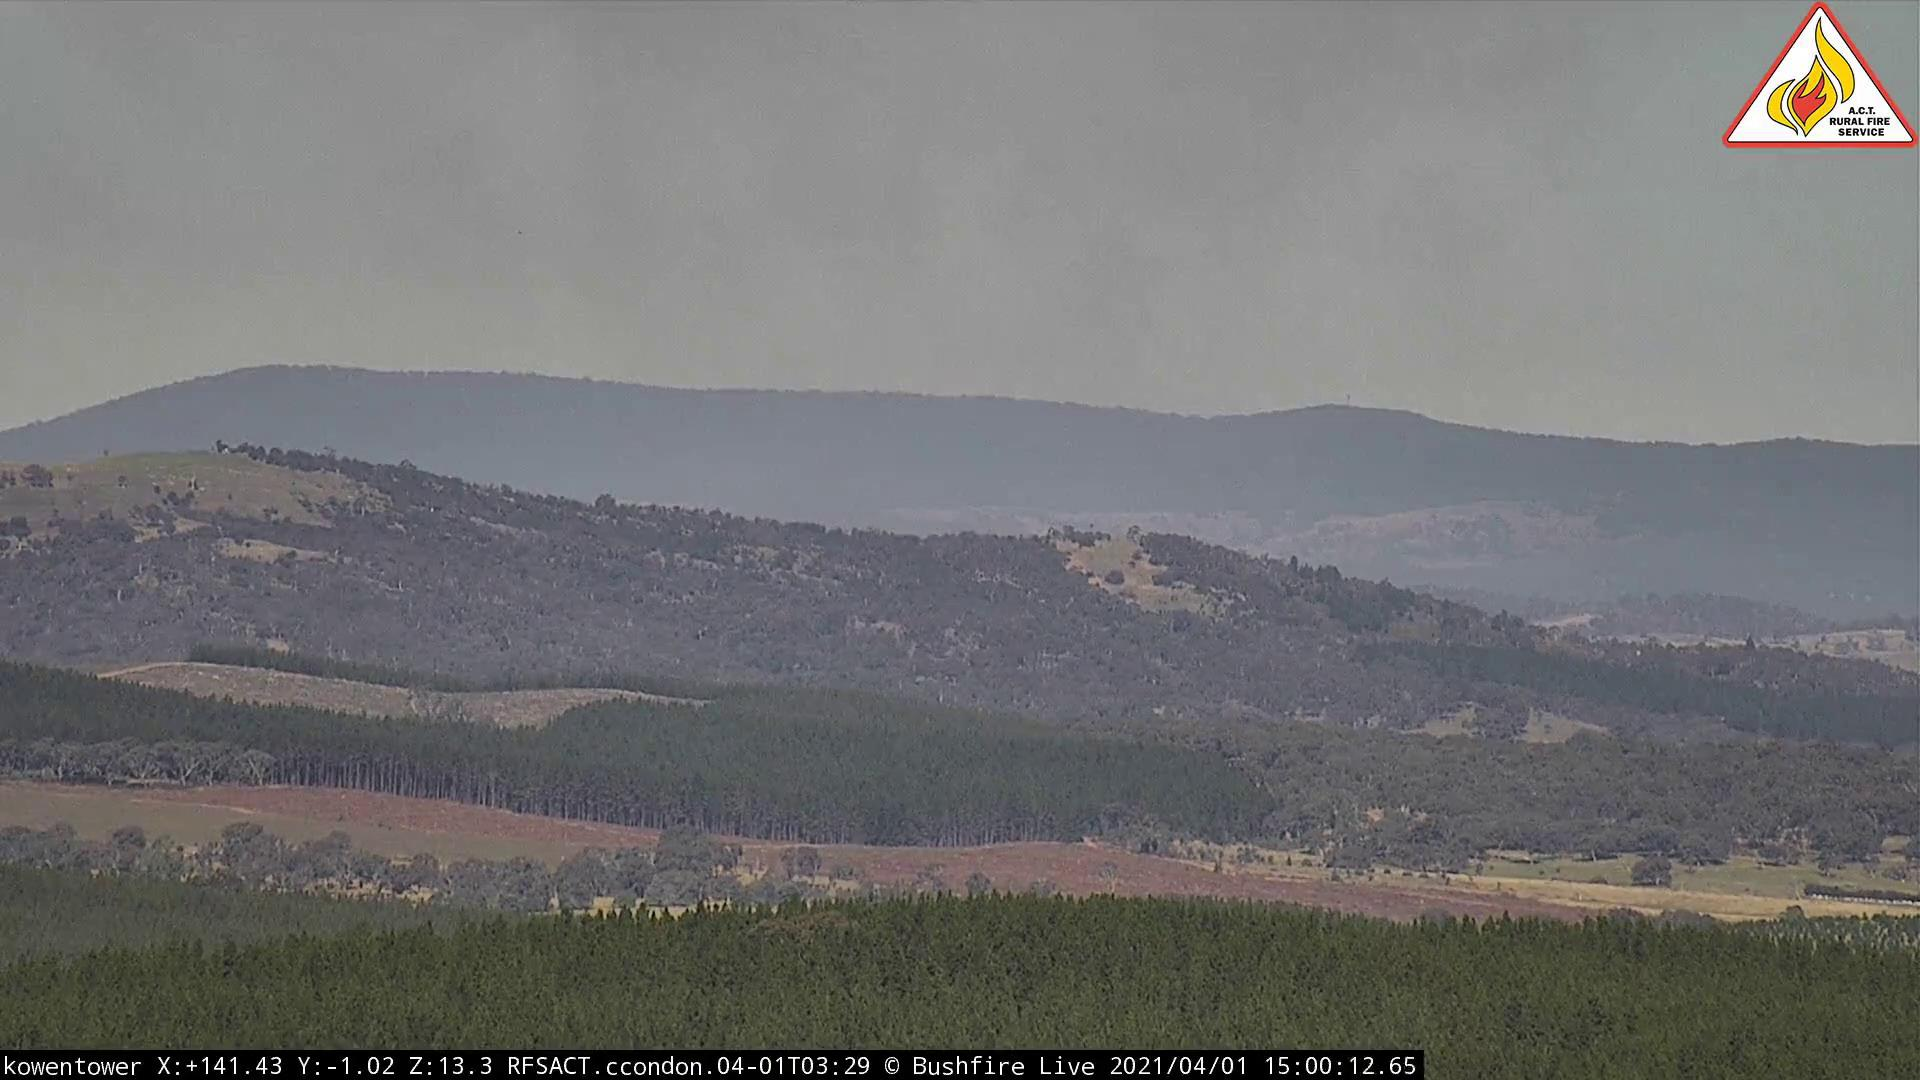instance_salient_object: (454, 3, 1509, 440)
